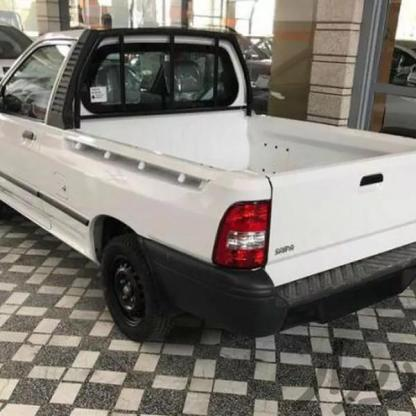Car: (0, 0, 416, 347), (369, 35, 416, 140)
